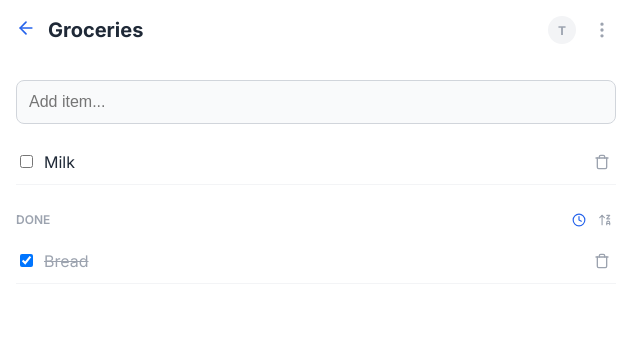
Test: ListDetailPage › adds a new item
Check: the text "Milk" is shown, box x1=44 y1=152 x2=75 y2=172
In the field with placeholder "Add item...": x=316, y=102 x1=16 y1=80 x2=616 y2=124, type "Eggs"
Then press Enter
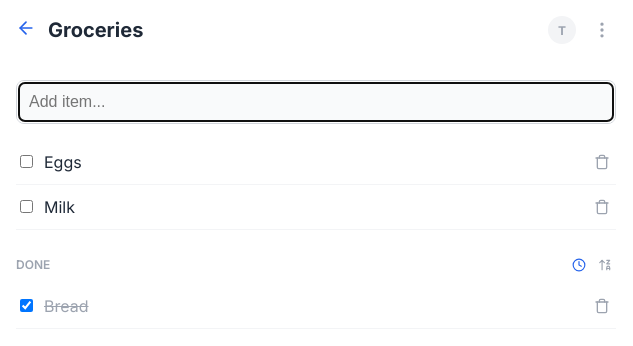
Check: the text "Eggs" is shown, box x1=44 y1=152 x2=82 y2=172
